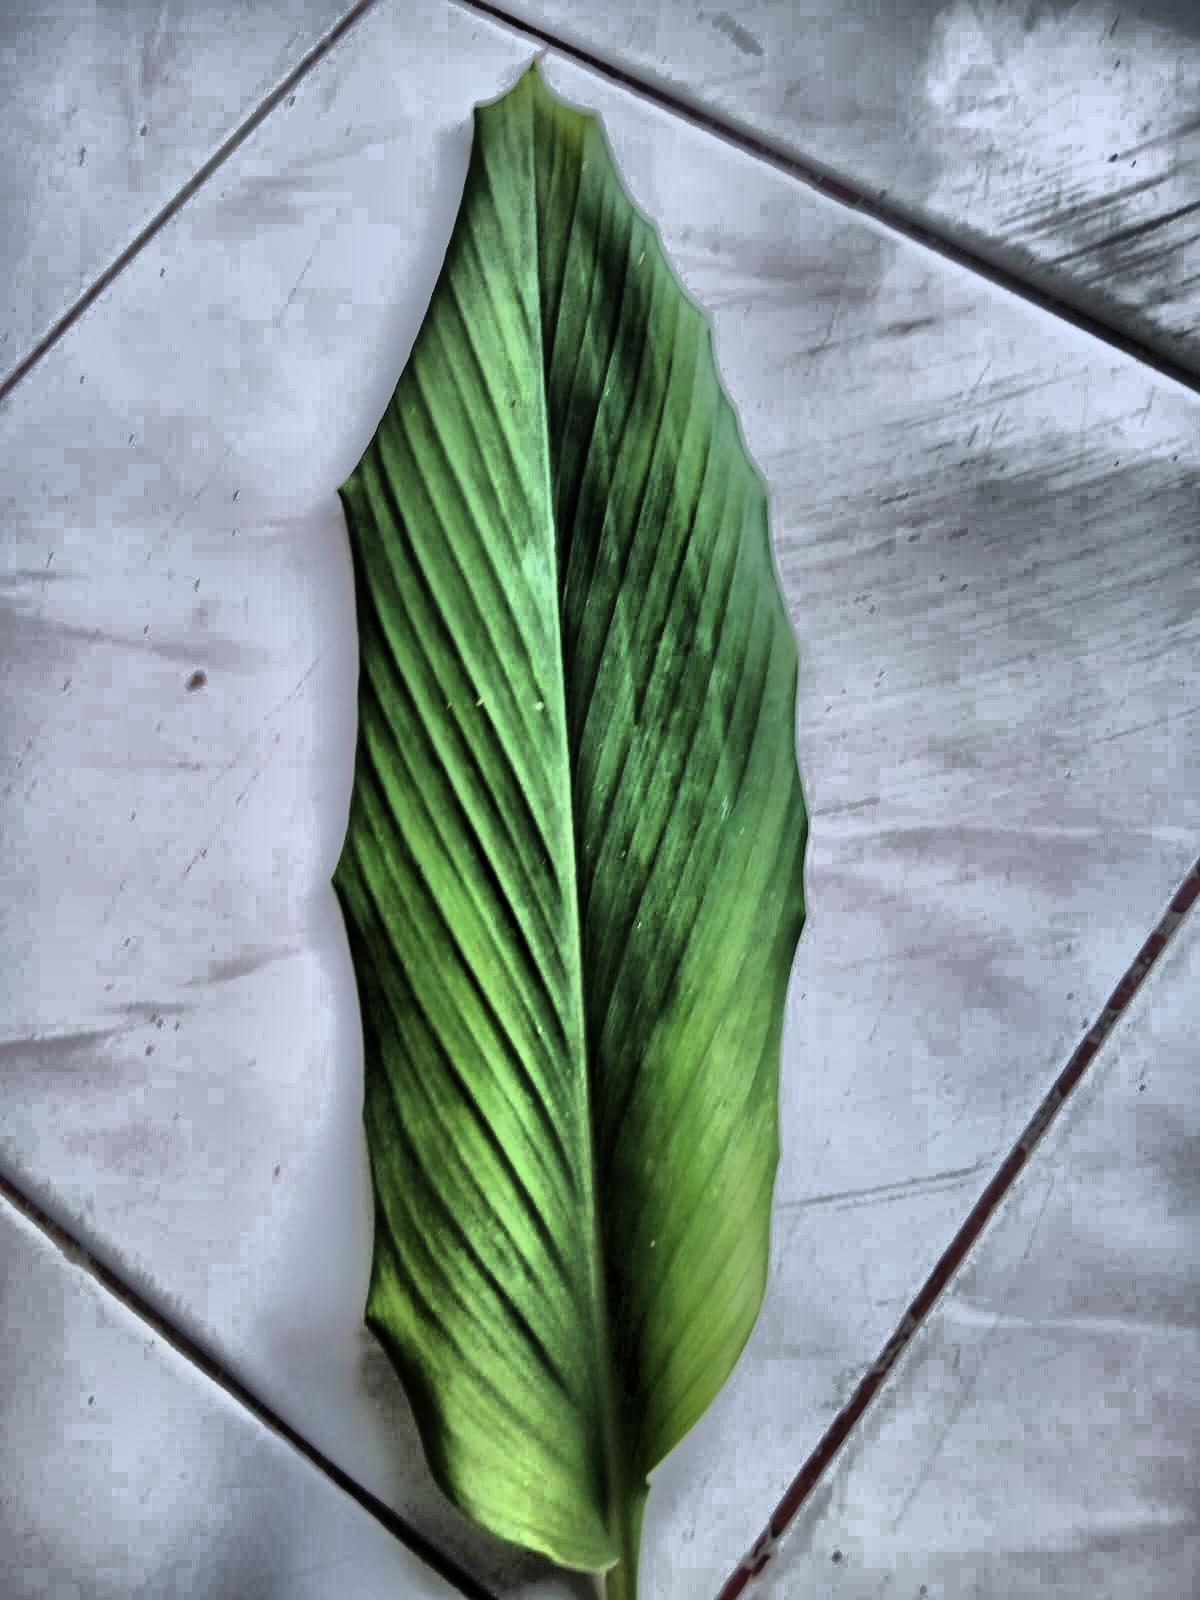daun kunyit: (333, 64, 807, 1599)
